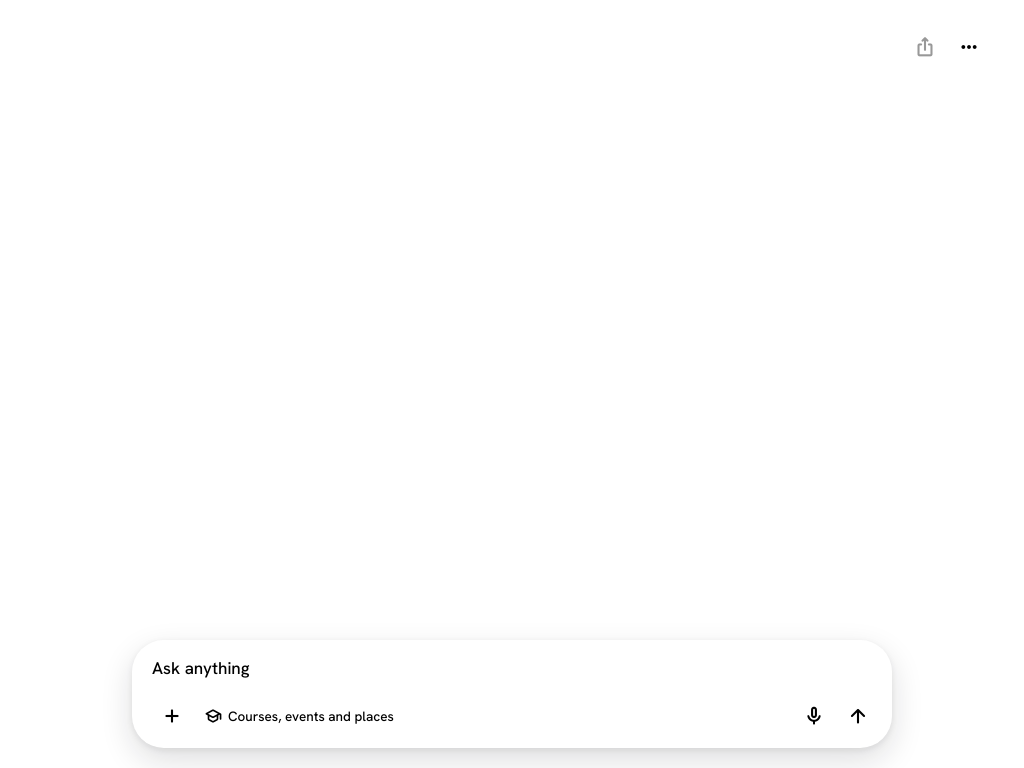
Scenario: chat flow (characterization) › a stream error shows the error message
Step 1. Type "Plan my semester" into the text box named "Message" → (511, 669), box 152,656 -> 870,682
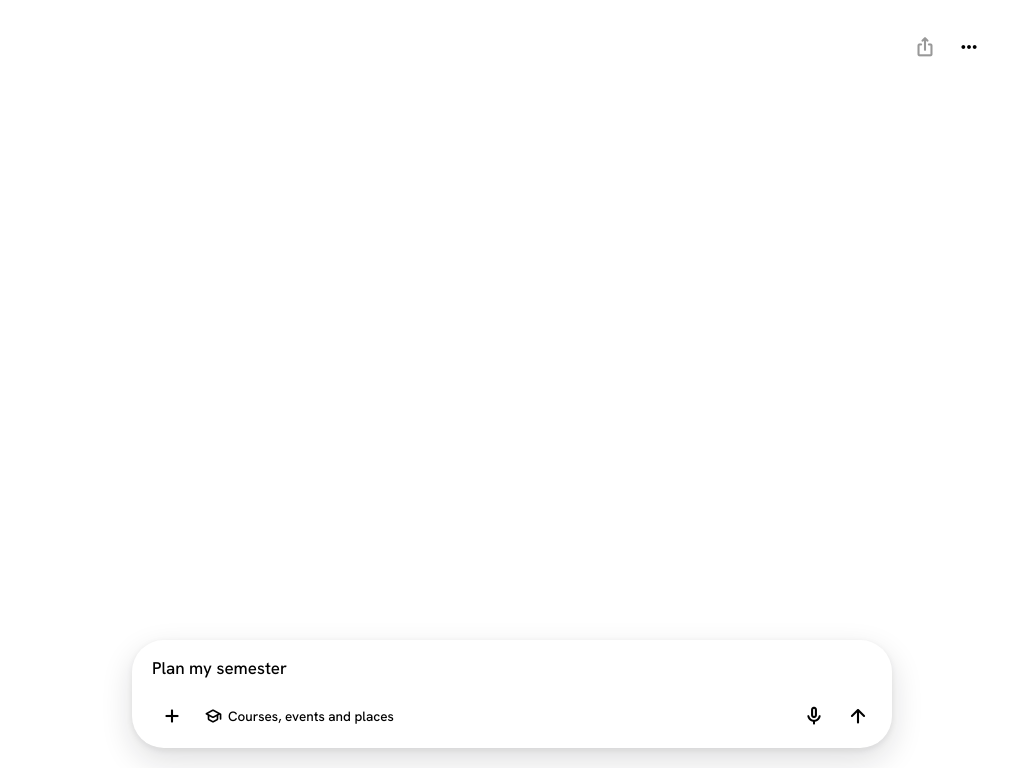
Step 2. Click the button named "Send" → (858, 716), box 838,696 -> 878,736
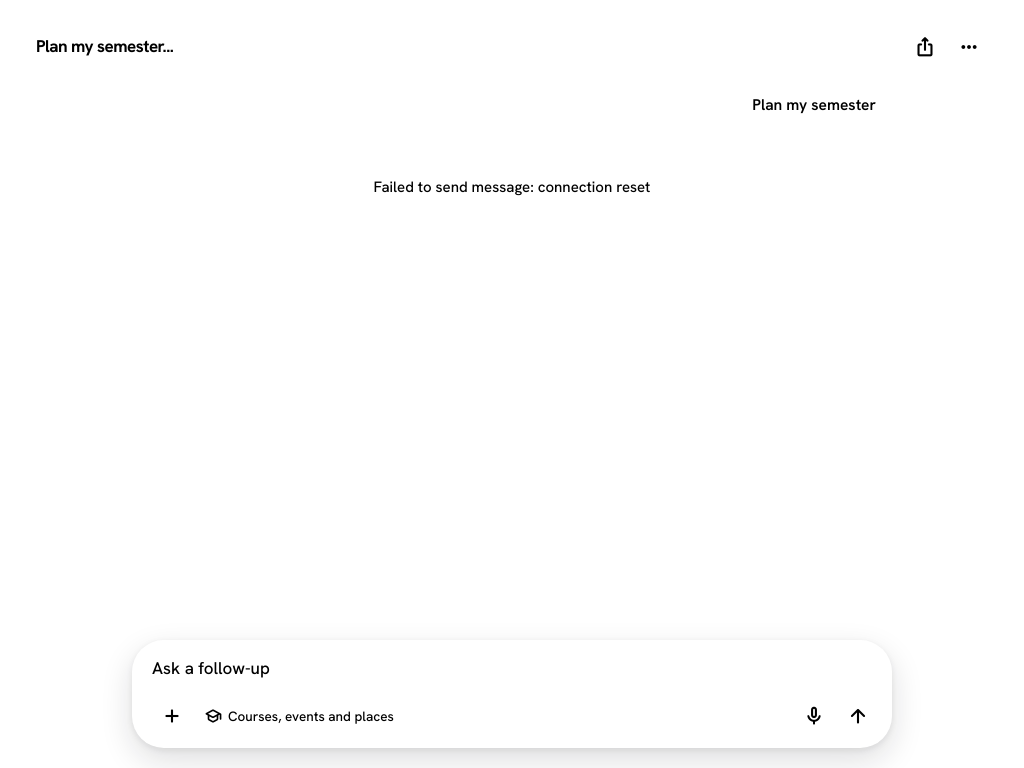
Expected: the text "Failed to send message: connection reset" is shown, 374,176 -> 650,199
Expected: the element with class "error-message" is shown, 374,178 -> 650,198
